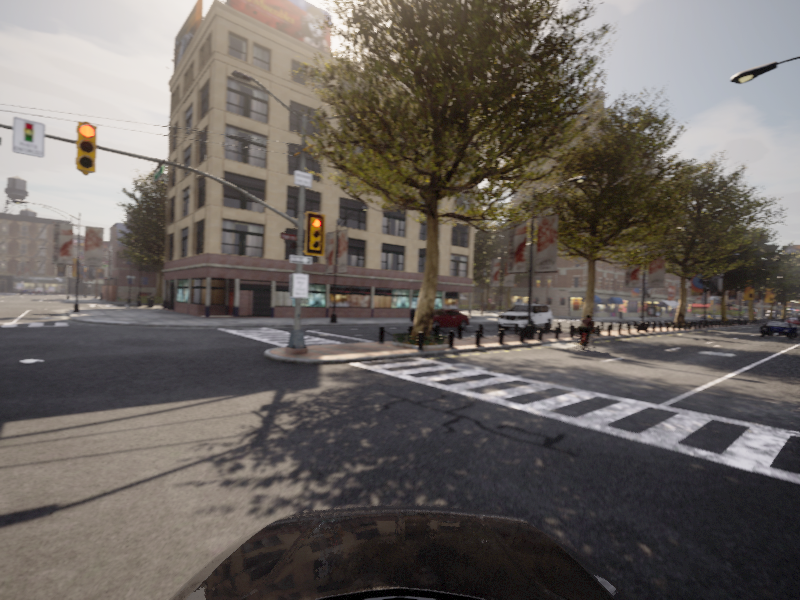vehicle: (495, 302, 556, 333), (408, 307, 473, 331), (570, 314, 601, 353), (758, 320, 799, 339)
